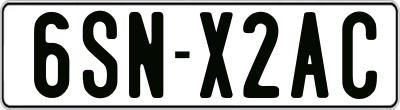2: (242, 11, 279, 101)
6: (31, 10, 70, 101)
A: (288, 11, 329, 97)
C: (342, 9, 377, 98)
N: (127, 9, 166, 96)
S: (83, 11, 123, 98)
X: (199, 10, 233, 100)
